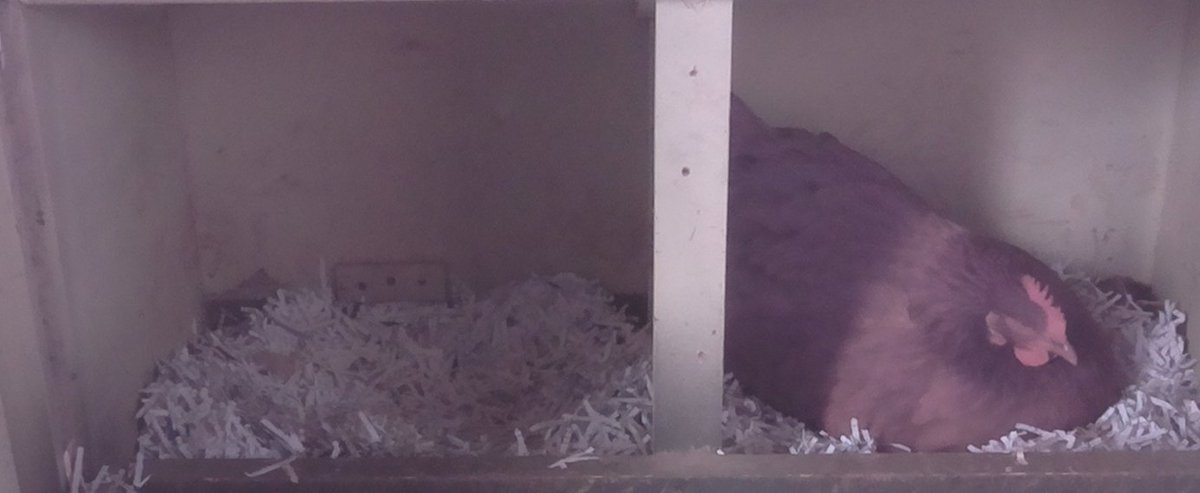hen: (730, 101, 1133, 445)
